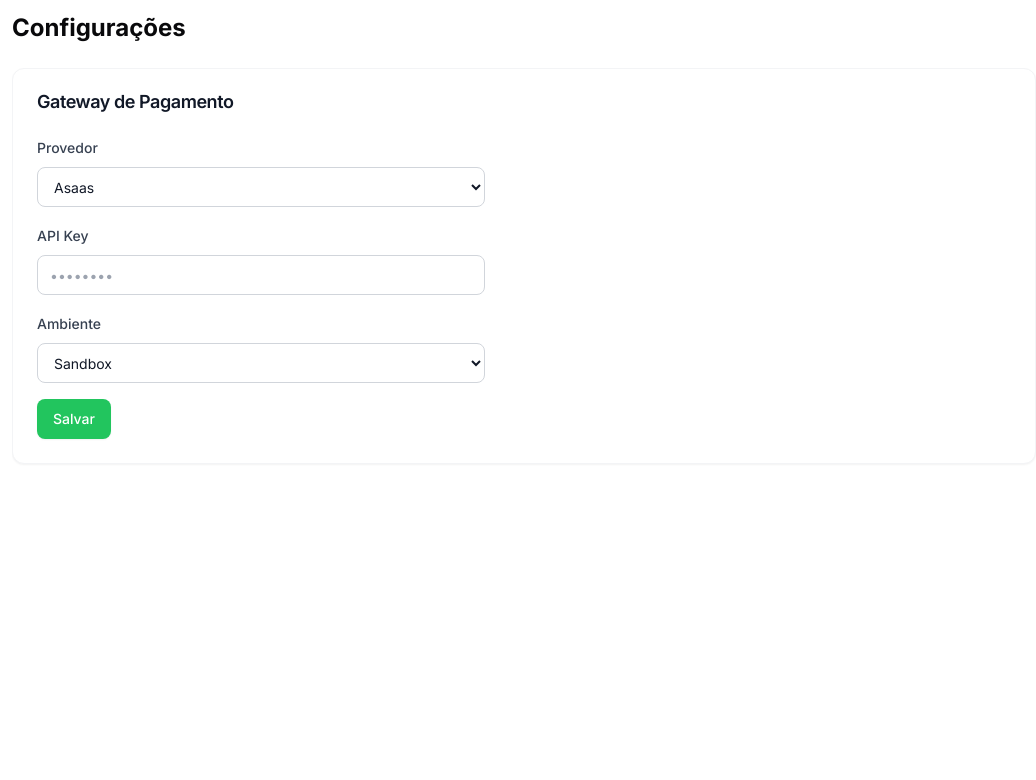
Test case: SettingsPage — Multi-Provider › validation › blocks submission when required Asaas field is empty
Expected: the password field labelled "API Key" is shown, [37,255,485,295]
Click the button "Salvar" at (74, 419), box [37,399,111,439]
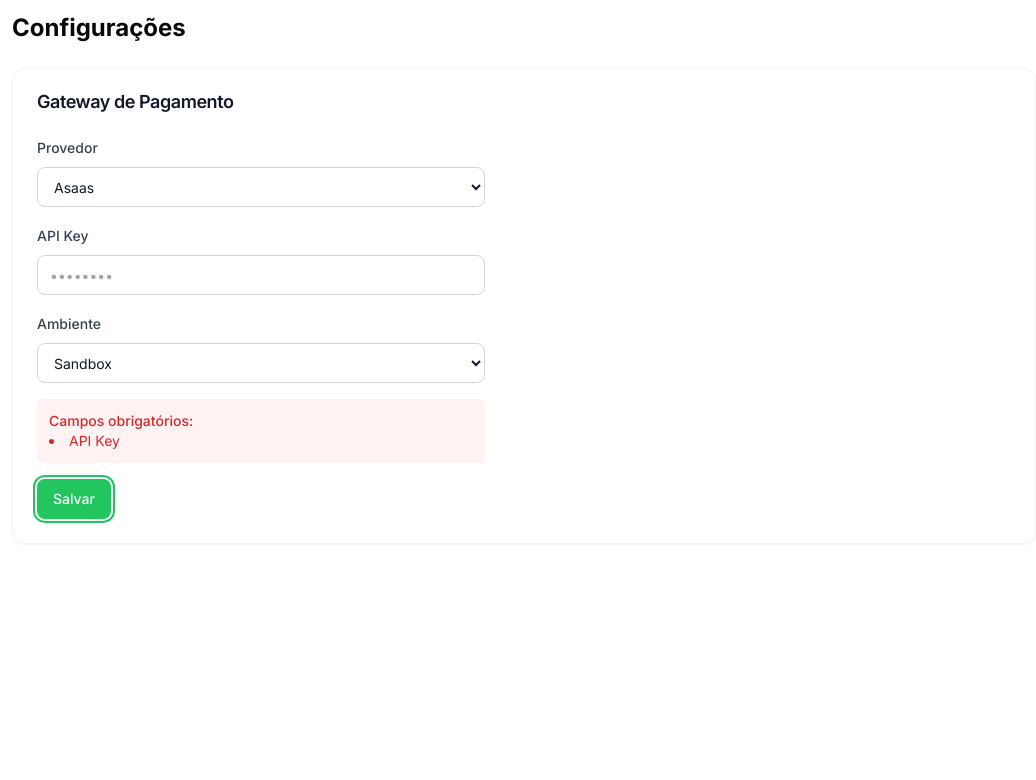
Expected: the text "API Key" is shown 2 times, [37,227,88,244]; [69,432,120,449]
Expected: the text "Campos obrigatórios:" is shown, [49,412,193,429]
